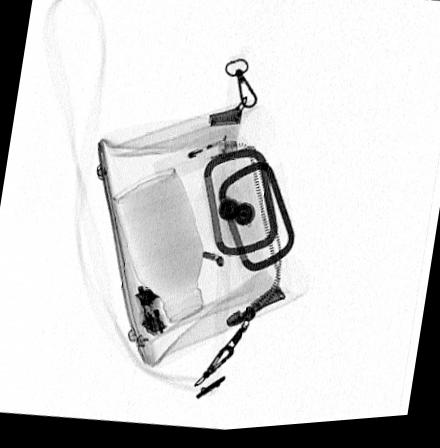Lighter: (152, 136, 237, 187)
